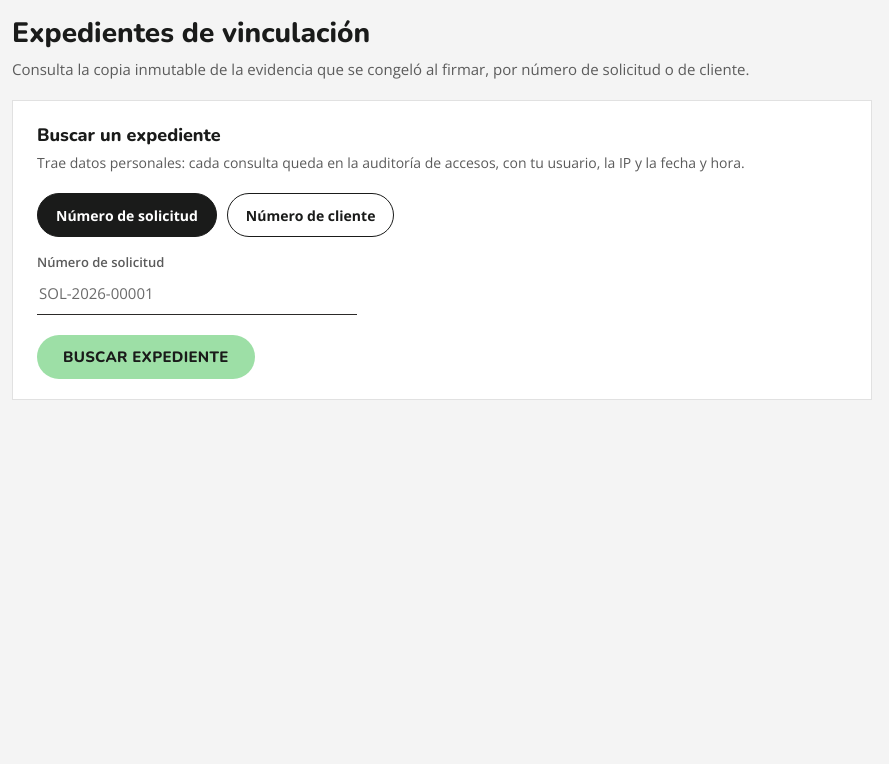
Test case: DossiersView › busca por número de solicitud y muestra el expediente con un enlace a la solicitud
This screenshot has width=889, height=764.
Type "sol-2026-00001" into the field labelled "Número de solicitud" at (197, 293), box [37, 271, 357, 315]
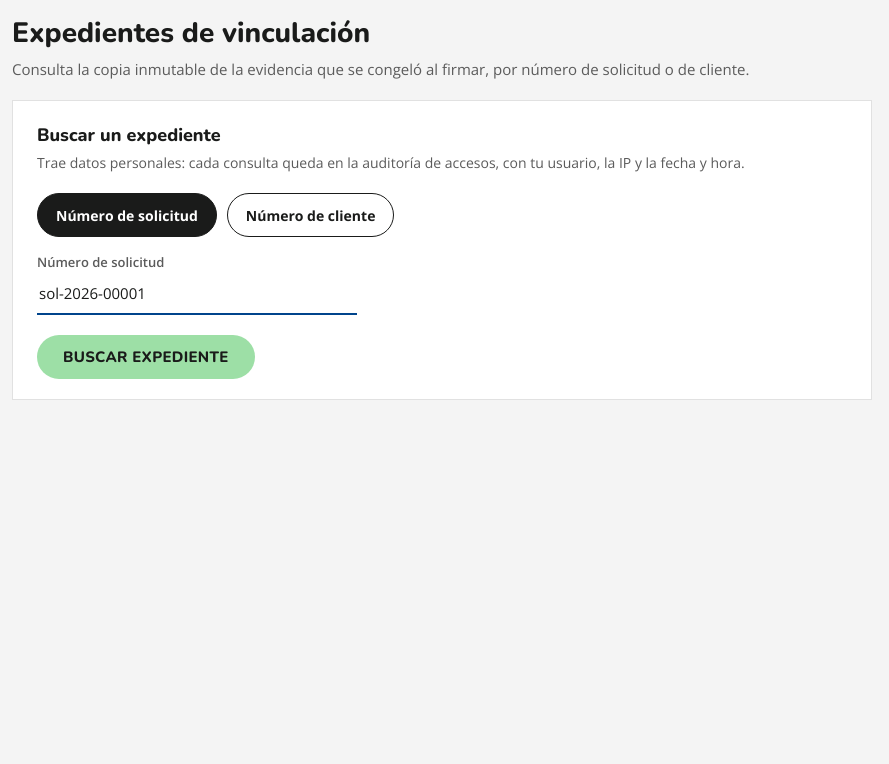
Click the button "Buscar expediente" at (146, 357), box [37, 335, 255, 379]
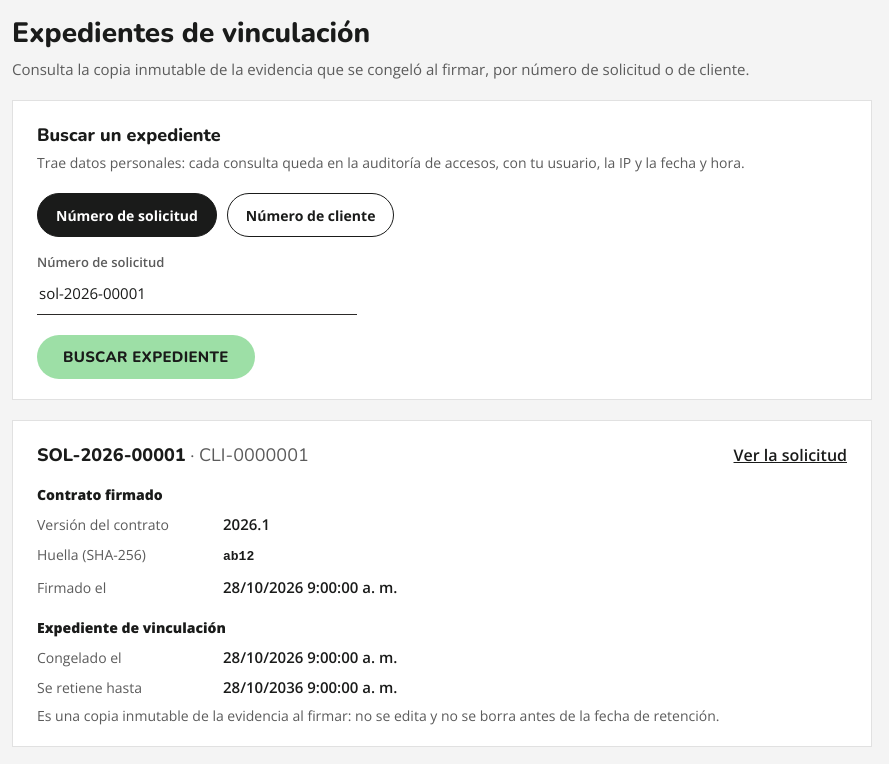
Now the element named "Expediente de SOL-2026-00001" is shown, box [12, 420, 872, 747]
Now the text "2026.1" is shown, box [223, 514, 270, 534]
